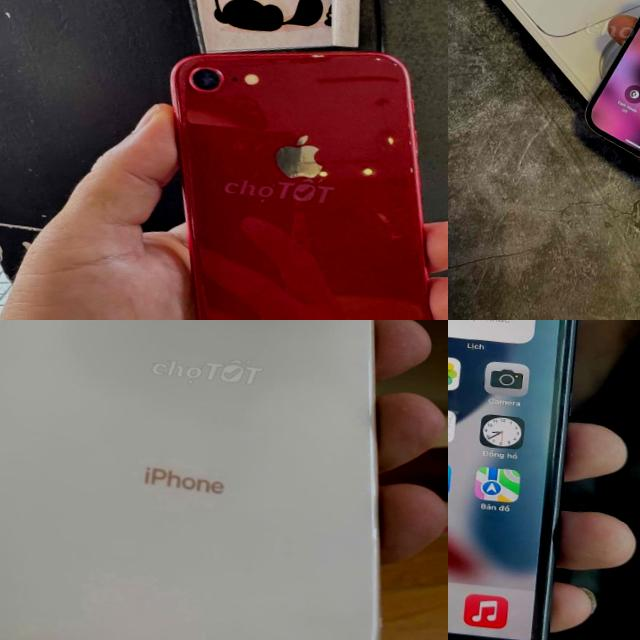scratch: (552, 324, 582, 462), (179, 58, 230, 96)
